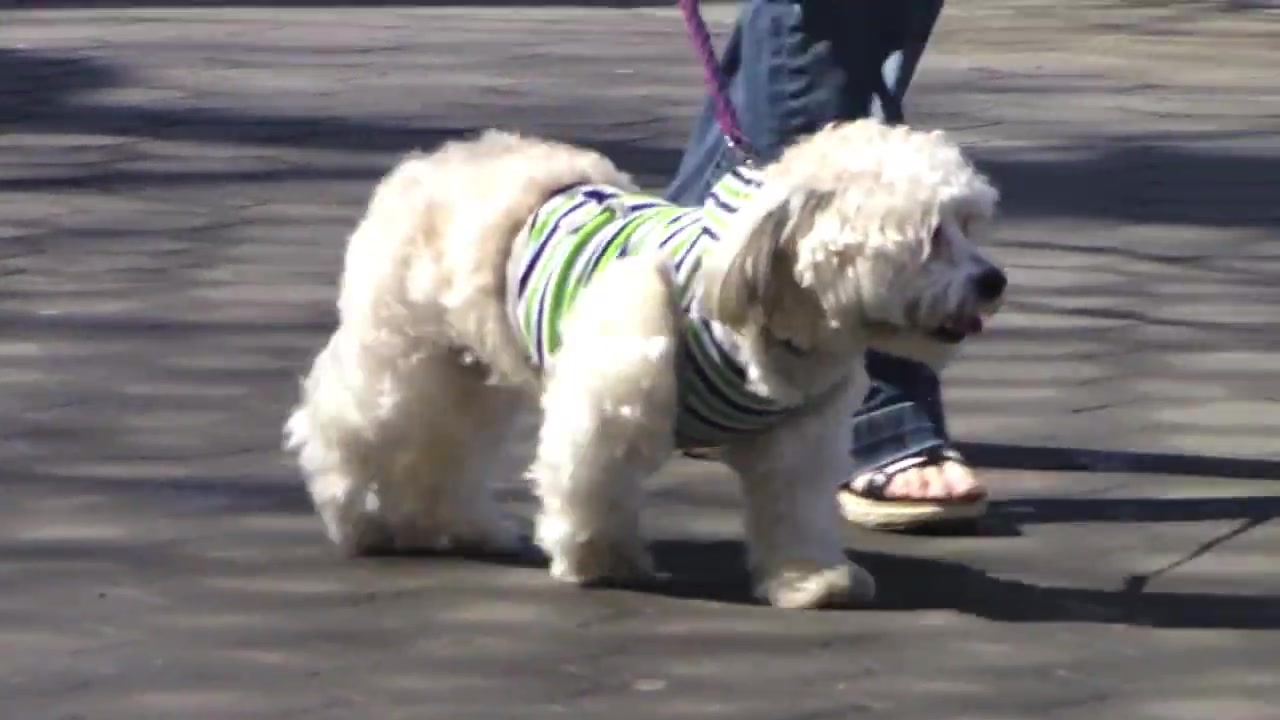dog: (282, 117, 1014, 615)
